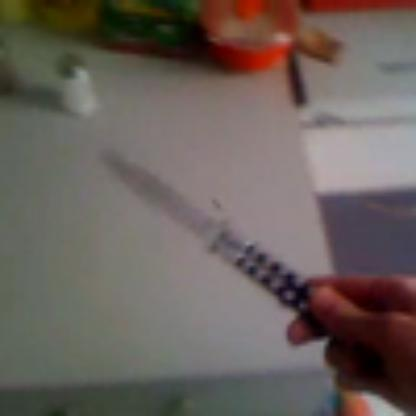knives: (83, 132, 365, 378)
